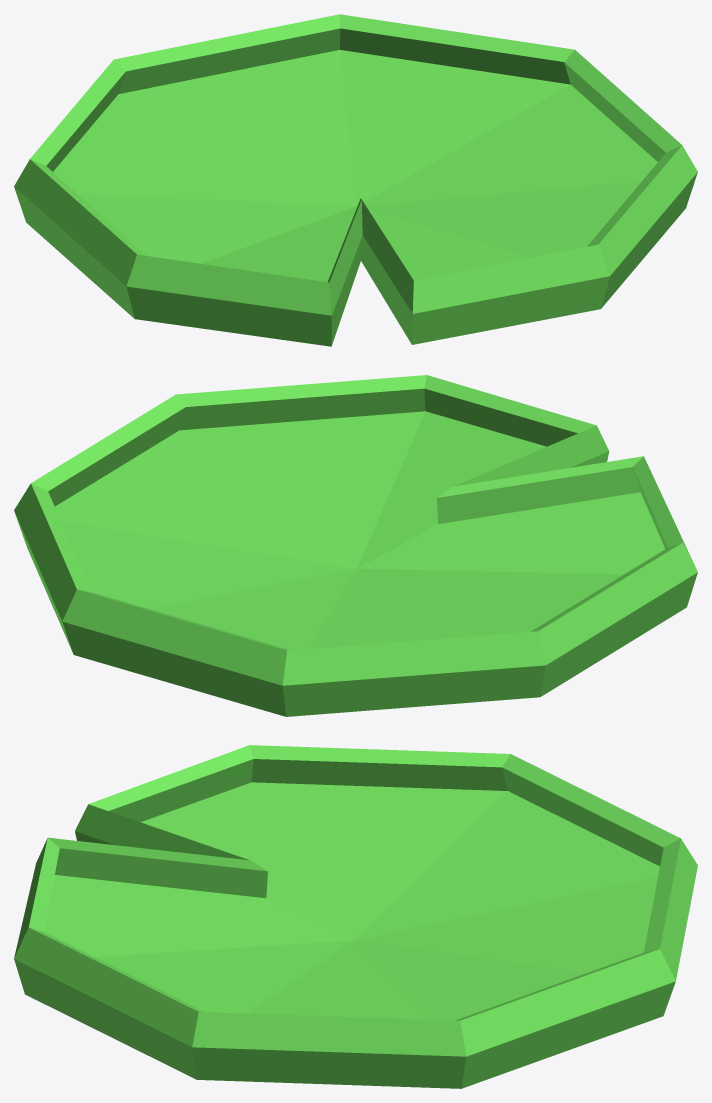
The model's file is ENV_Lilypad.fbx.
3 renders of one model, top to bottom at view 1: azimuth 30°, elevation 25°; view 2: azimuth 150°, elevation 25°; view 3: azimuth 270°, elevation 25°, orthographic. The views are drawn at different scales.
Visible parts, largest first — view 1: Circle.005; view 2: Circle.005; view 3: Circle.005.
Boxes of the visible parts, x1=… form: Circle.005: x1=14, y1=14, x2=697, y2=346; Circle.005: x1=14, y1=375, x2=697, y2=716; Circle.005: x1=14, y1=745, x2=697, y2=1088.
Bounding box in the file's own units: 152 × 152 × 17.42.
